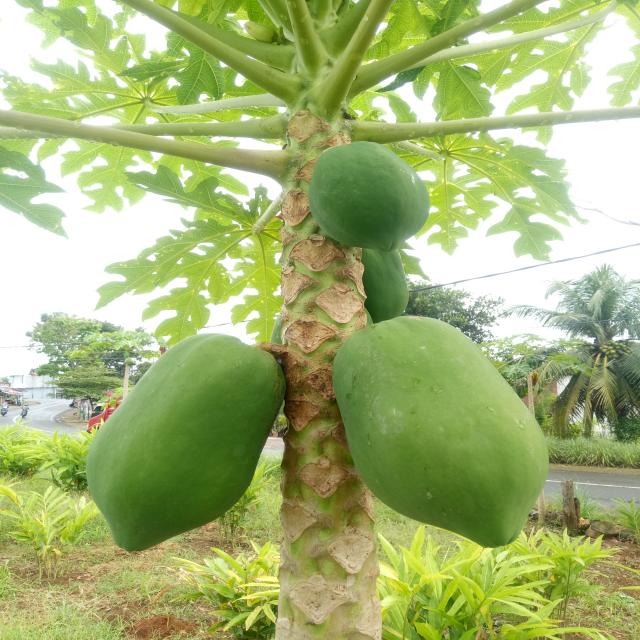Pepaya unrippen: (330, 307, 546, 550), (84, 338, 276, 564), (303, 136, 432, 262)
